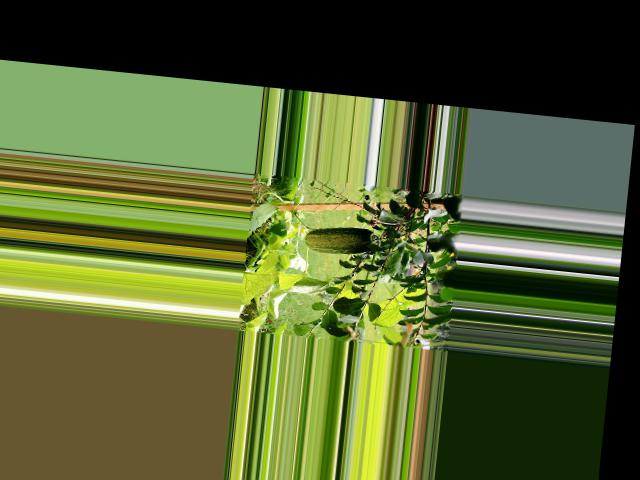cucumber: (303, 221, 381, 257)
